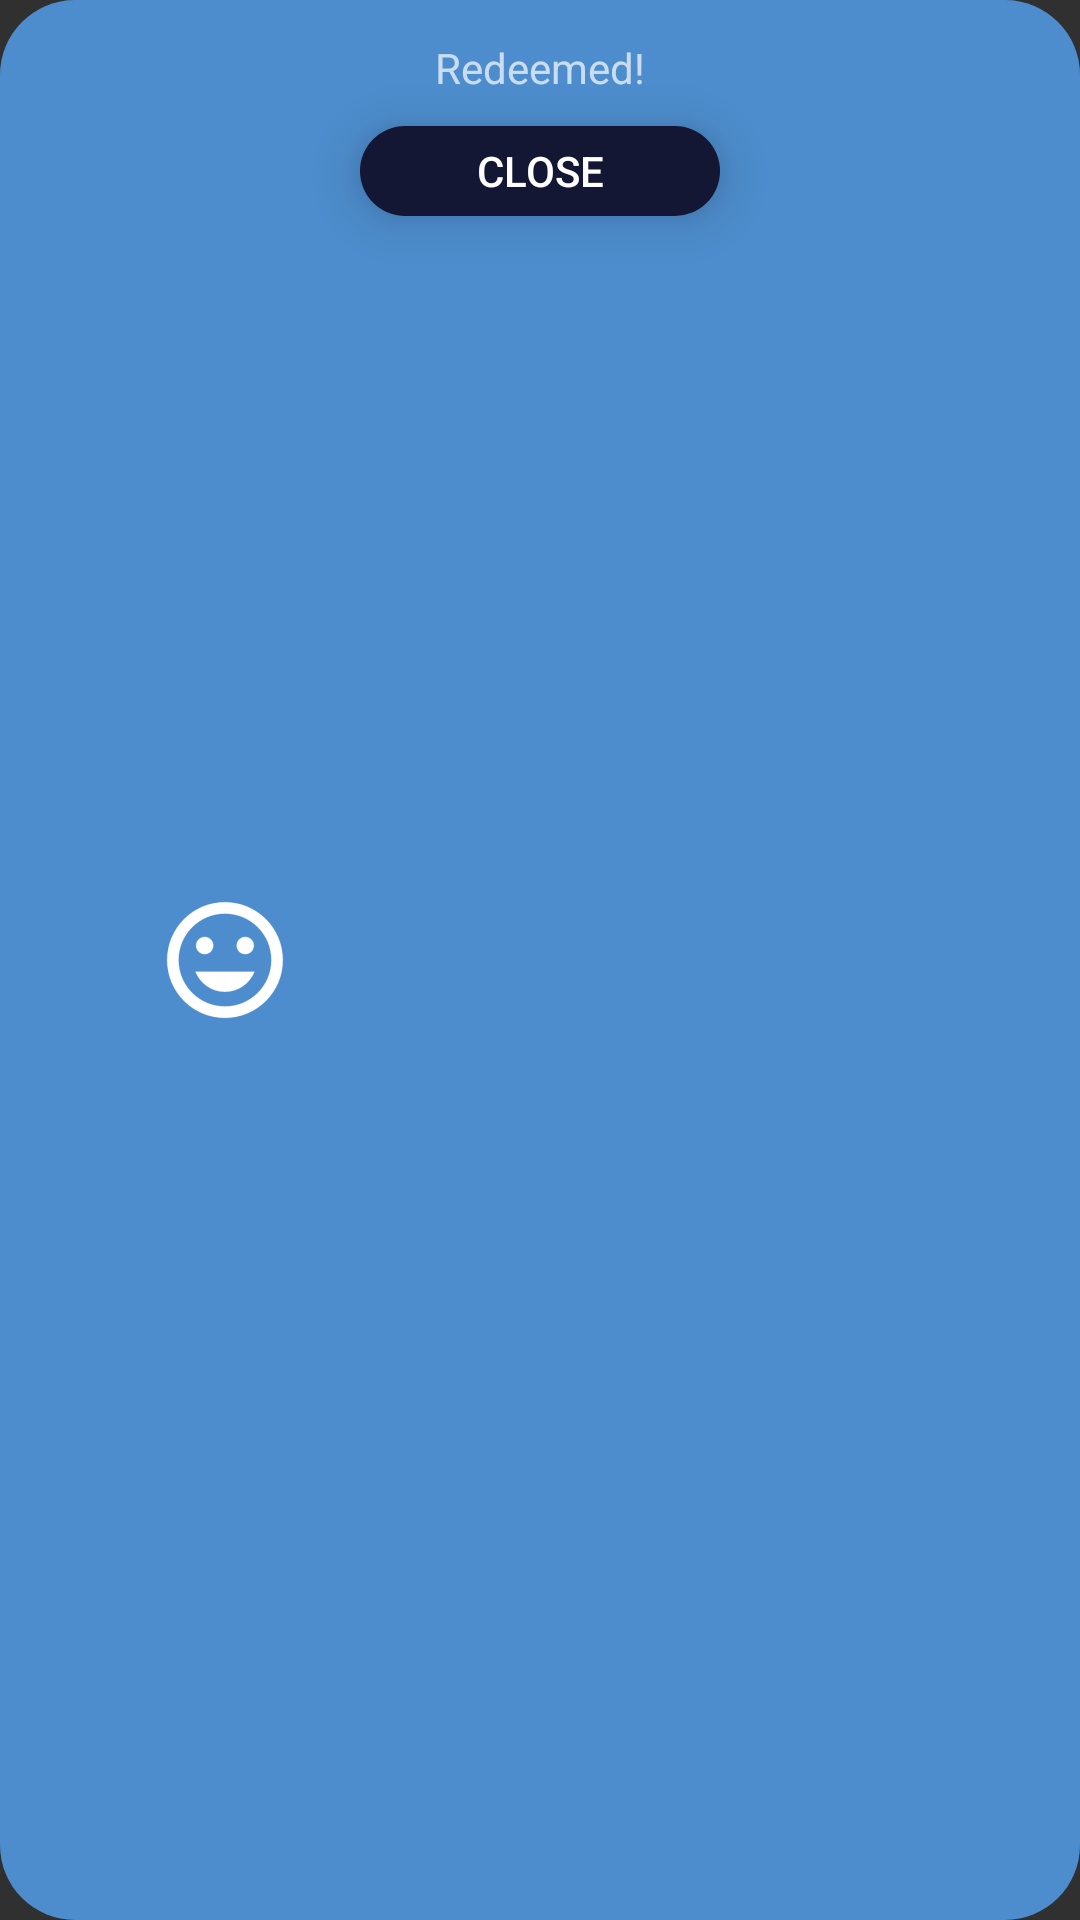

Where to tap for icons on this 1080px×1920px app screen, as (x,y):
successful redemp: (225,960)
